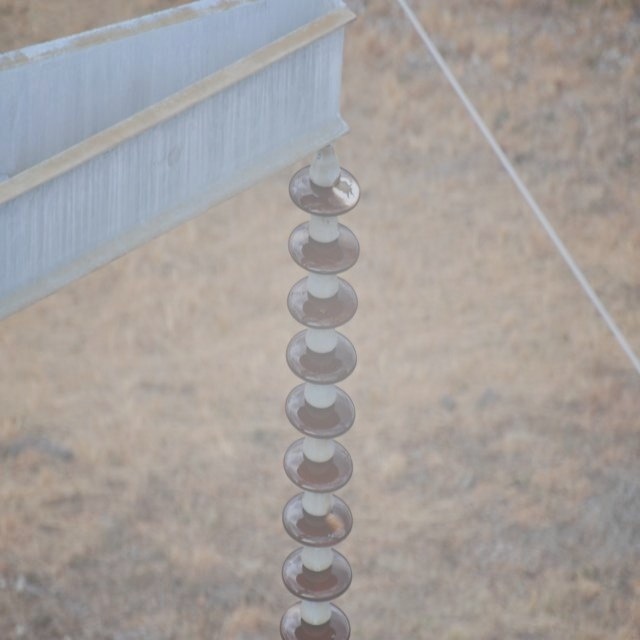insulator: (280, 160, 362, 640)
